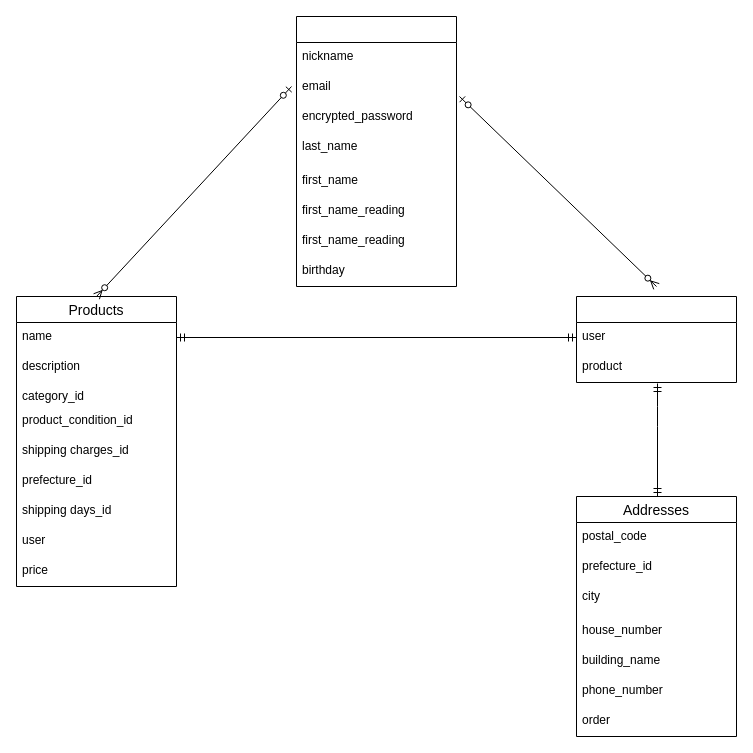
Some shapes in this 753 by 753 pixel diagram are drawn without their labels. Here are the shapes that lost their labels. From the top down, the box of each, then its label:
(296, 16, 456, 286): Users
(576, 296, 736, 382): Orders
